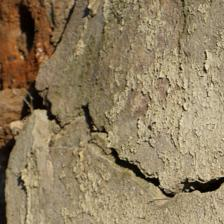Crack: (46, 51, 175, 152)
